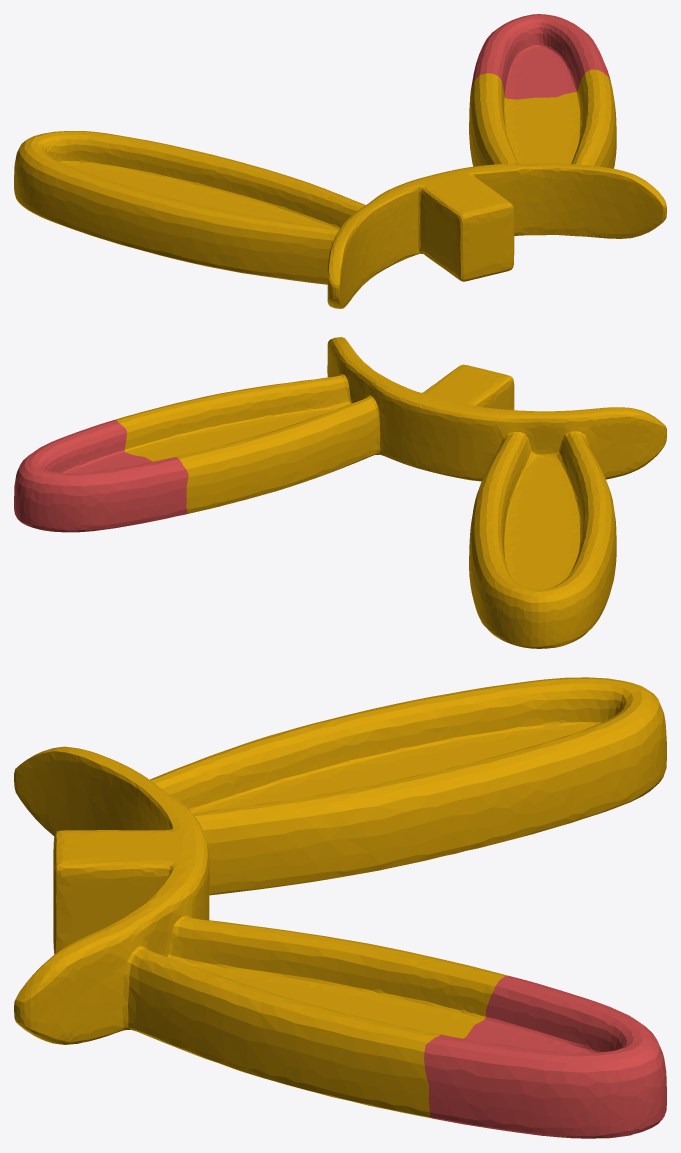
File: fractured_14_2pcs.glb
3 views of the same model, one above another, from view 1: azimuth 30°, elevation 25°; view 2: azimuth 150°, elevation 25°; view 3: azimuth 270°, elevation 25° (orthographic). The views are drawn at different scales.
Visible parts, largest first — view 1: piece_0.obj, piece_1.obj; view 2: piece_0.obj, piece_1.obj; view 3: piece_0.obj, piece_1.obj.
Part boxes in pixels (x1=…): piece_0.obj: x1=14, y1=69, x2=666, y2=308; piece_1.obj: x1=470, y1=14, x2=610, y2=99; piece_0.obj: x1=115, y1=337, x2=666, y2=648; piece_1.obj: x1=14, y1=419, x2=188, y2=532; piece_0.obj: x1=14, y1=677, x2=666, y2=1118; piece_1.obj: x1=424, y1=976, x2=666, y2=1138.
Size of the model in its own units: 1 by 0.1158 by 0.6933.
